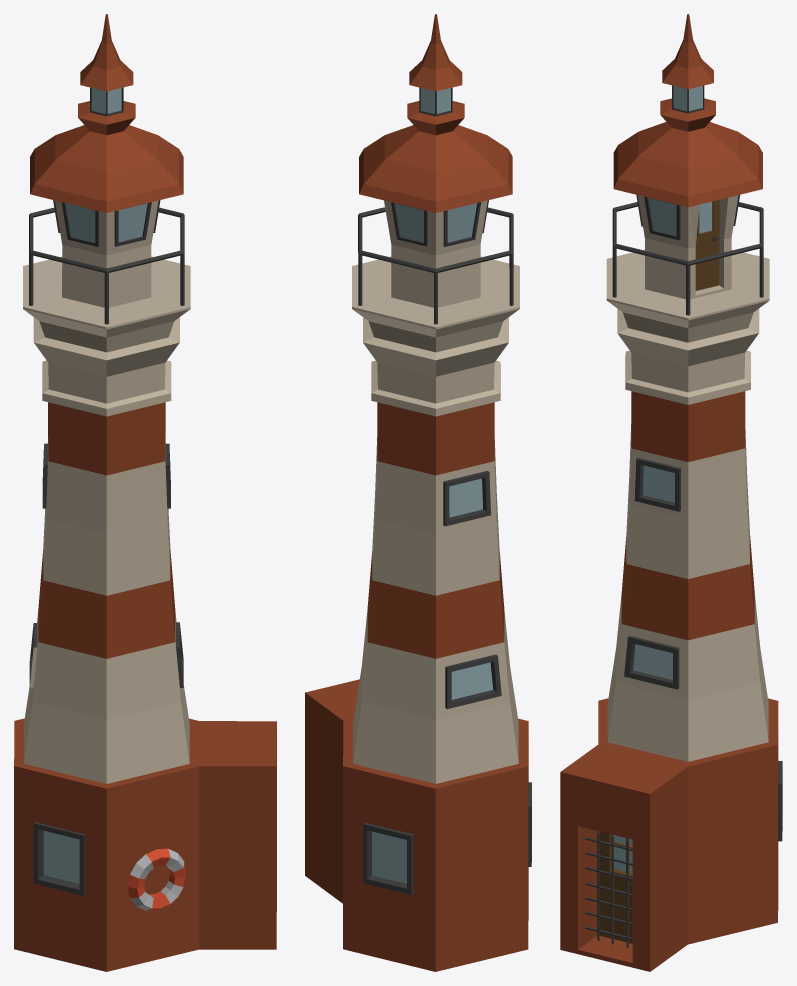
File: Leuchtturm.fbx
3 renders of one model, left to right at view 1: azimuth 30°, elevation 25°; view 2: azimuth 150°, elevation 25°; view 3: azimuth 270°, elevation 25°, orthographic. The views are drawn at different scales.
Visible parts, largest first — view 1: Leuchturm, Boden, Rettungsring, Gitter_1; view 2: Leuchturm, Boden, Gitter_1; view 3: Leuchturm, Boden, Gitter_1.
Boxes of the visible parts, x1=… form: Leuchturm: x1=23, y1=14, x2=190, y2=783; Boden: x1=14, y1=718, x2=276, y2=971; Rettungsring: x1=127, y1=848, x2=186, y2=910; Gitter_1: x1=29, y1=207, x2=184, y2=324; Leuchturm: x1=352, y1=14, x2=519, y2=783; Boden: x1=305, y1=679, x2=531, y2=971; Gitter_1: x1=358, y1=207, x2=513, y2=324; Leuchturm: x1=606, y1=14, x2=769, y2=761; Boden: x1=560, y1=698, x2=782, y2=971; Gitter_1: x1=585, y1=202, x2=763, y2=948.
Size of the model in its own units: 562 by 2016 by 458.
